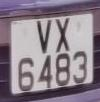3: (71, 49, 90, 87)
4: (35, 52, 56, 93)
6: (14, 54, 38, 95)
8: (53, 51, 73, 91)
V: (34, 18, 55, 57)
X: (54, 15, 72, 55)
